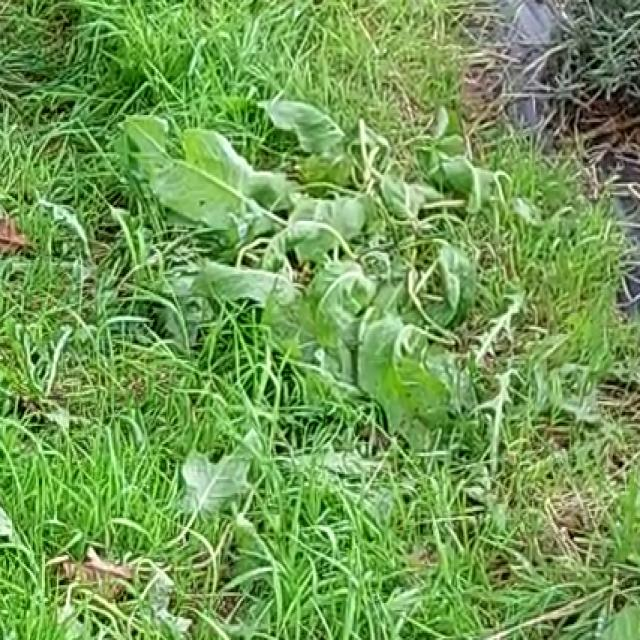organic waste: (127, 64, 375, 272), (286, 202, 516, 419), (300, 85, 526, 288)
